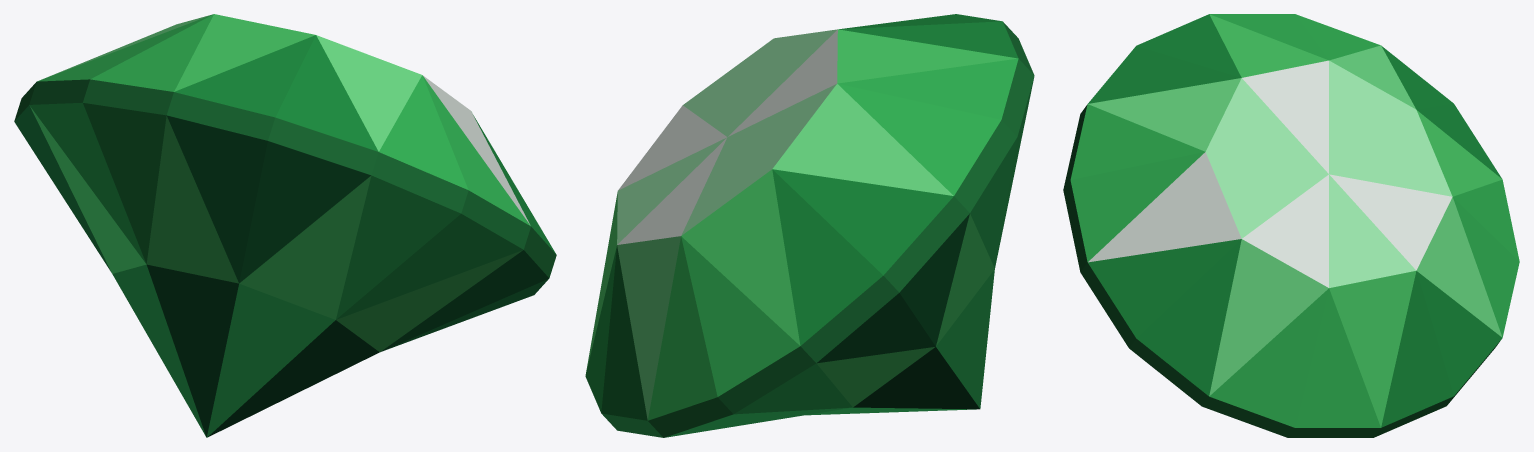
The model's file is FieldGemMesh.glb.
The picture shows the model from 3 angles, left to right: view 1: azimuth 30°, elevation 25°; view 2: azimuth 150°, elevation 25°; view 3: azimuth 270°, elevation 25°; orthographic projection. The views are drawn at different scales.
Parts seen in each view (by area): view 1: FieldGem_s1__Body; view 2: FieldGem_s1__Body; view 3: FieldGem_s1__Body.
Boxes of the visible parts, x1,y1,x2,y2 form: FieldGem_s1__Body: (14,14,556,437); FieldGem_s1__Body: (585,14,1034,437); FieldGem_s1__Body: (1063,14,1519,437).
Bounding box in the file's own units: 1.54 × 1.28 × 1.72.
